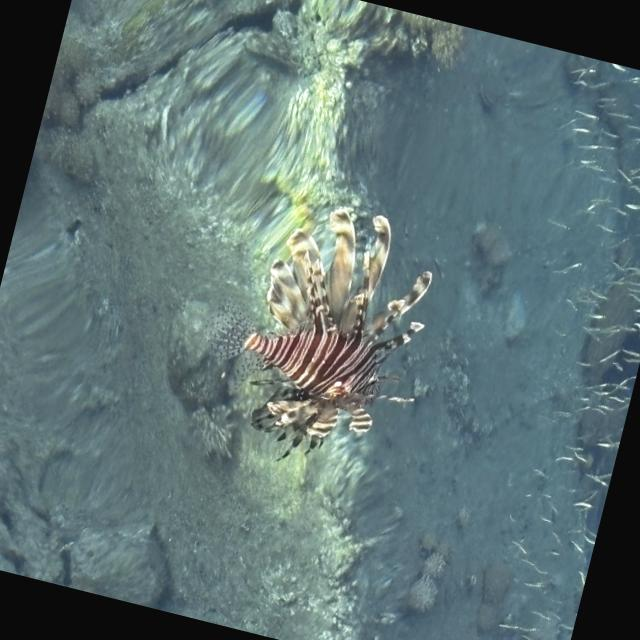Aslan Baligi: (192, 170, 464, 482)
